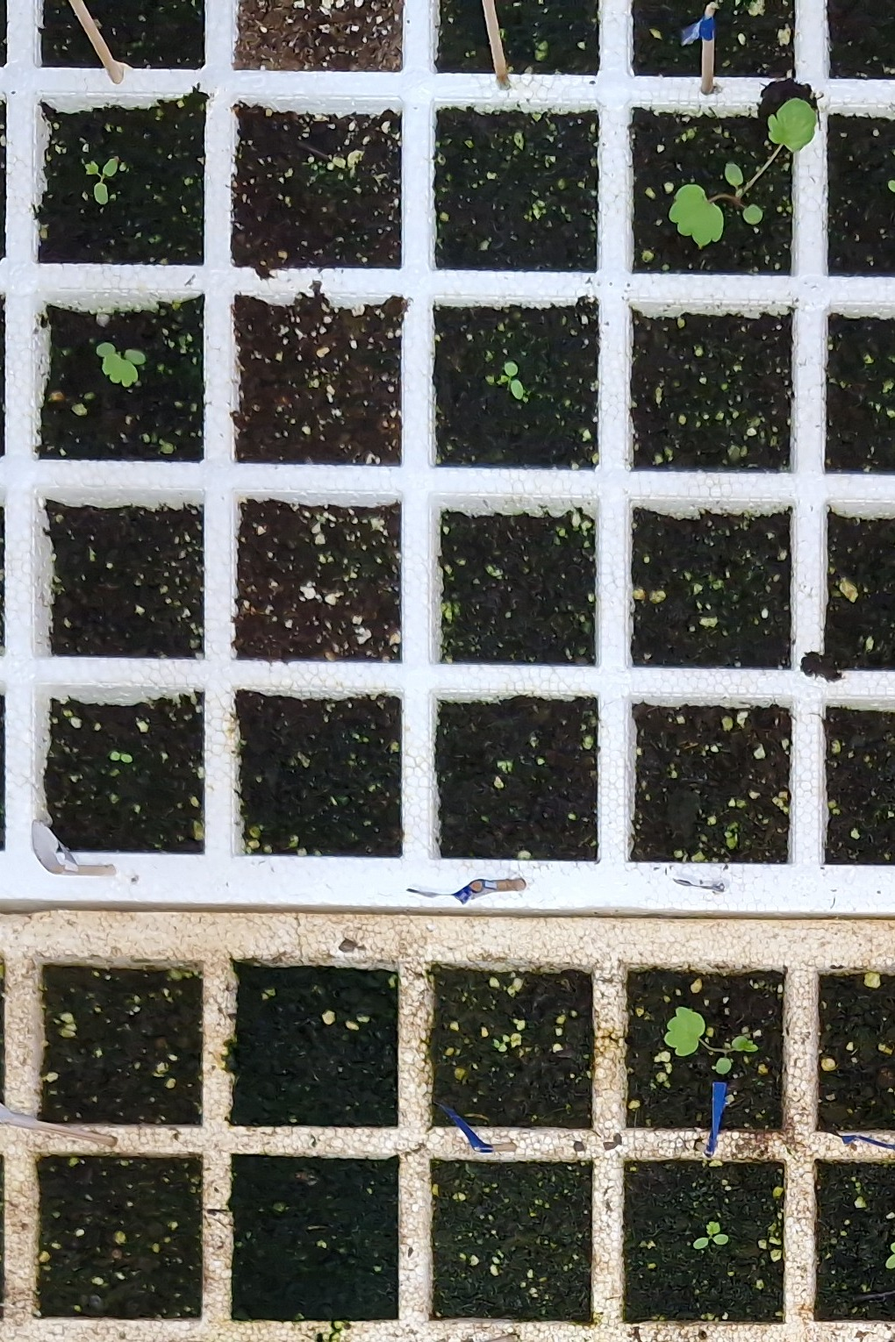Folha: (665, 1008, 705, 1055), (732, 1036, 757, 1051), (715, 1058, 731, 1073), (706, 1221, 720, 1234), (694, 1238, 708, 1248), (714, 1235, 728, 1244)
Germinacao: (665, 1008, 758, 1074), (693, 1221, 728, 1249)
